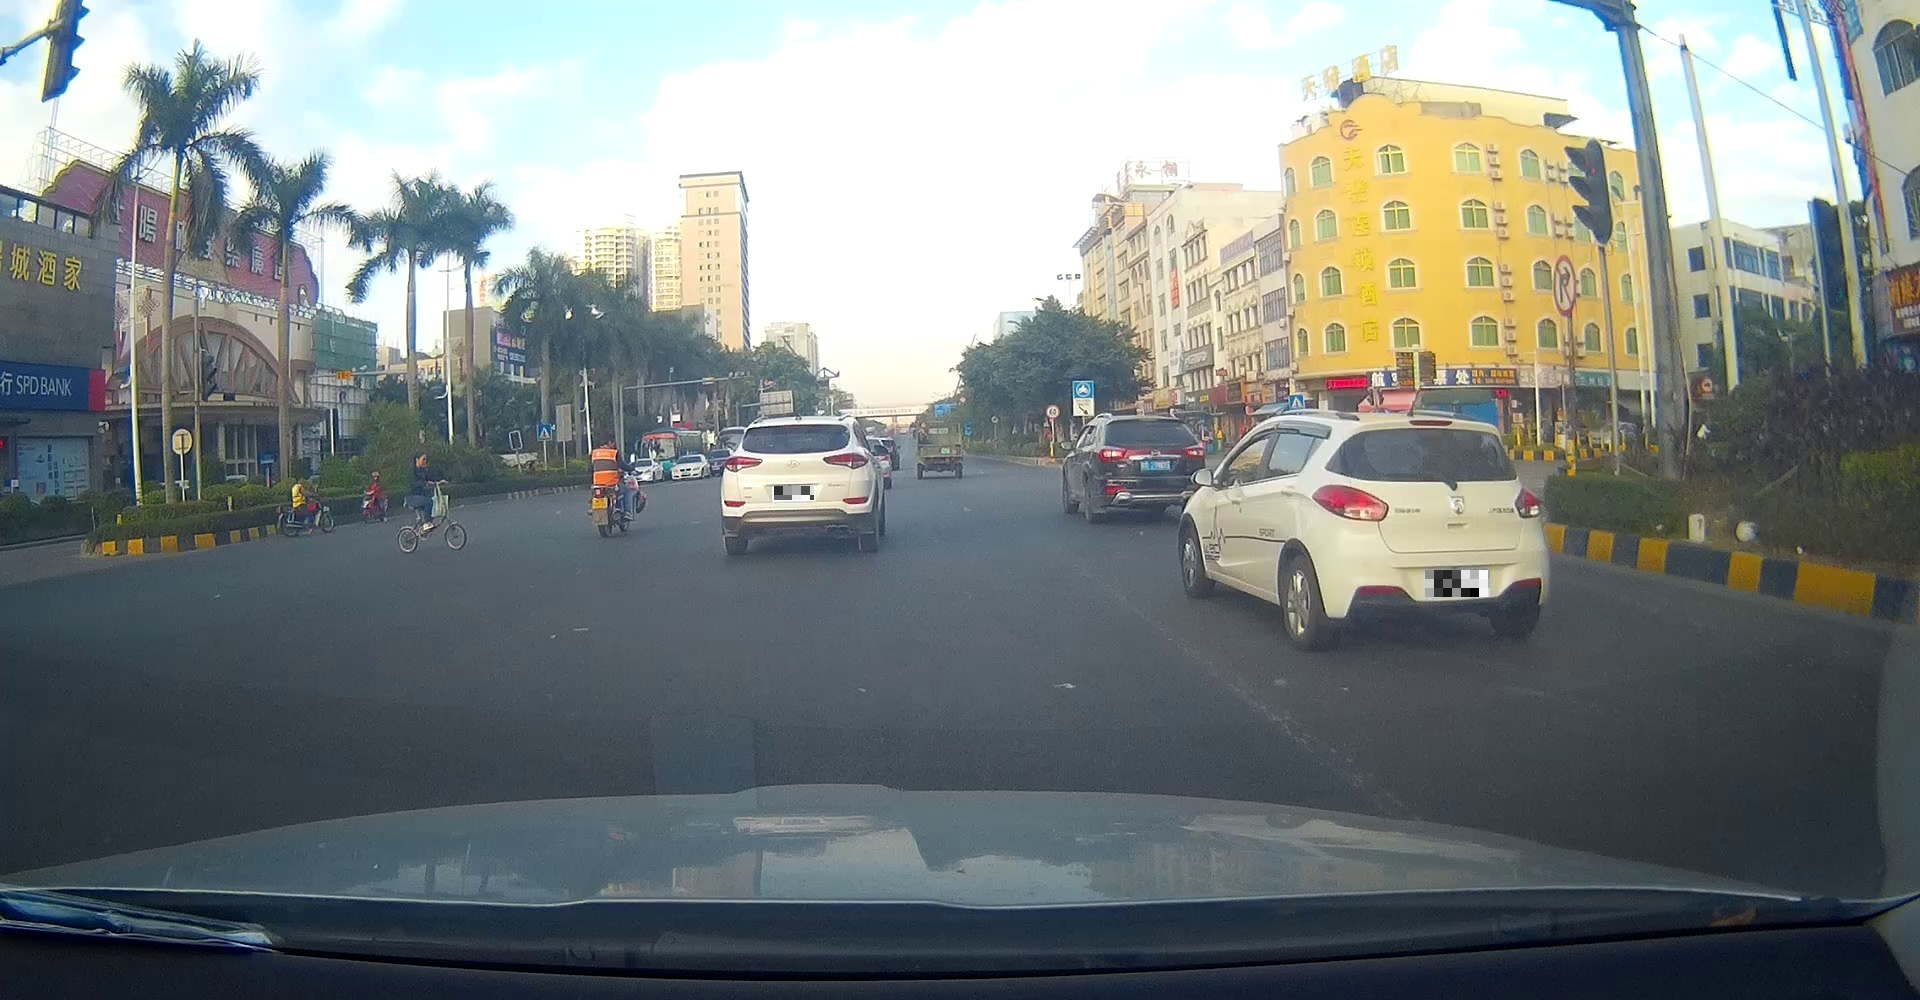L_light: (1310, 484, 1389, 523), (724, 456, 763, 473), (1098, 447, 1126, 461)
R_light: (1512, 486, 1542, 519), (822, 451, 869, 470), (1183, 445, 1205, 461)
T_light: (1408, 419, 1454, 426), (785, 425, 811, 429), (1140, 419, 1156, 425)
day-no: (1307, 415, 1550, 650), (721, 418, 874, 555), (1092, 415, 1206, 522)
plate_1: (775, 486, 814, 500)
plate_2: (1425, 570, 1490, 596)
